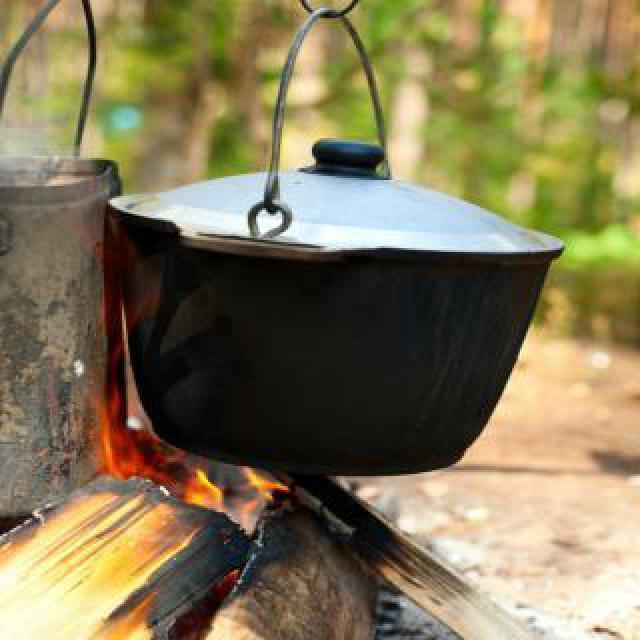Fire: (70, 394, 282, 518)
